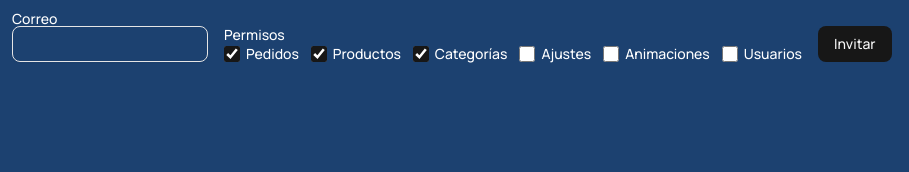
InviteAdminForm › shows the error message returned by inviteAdmin
Type "ya@crazyhour.co" into the field labelled "Correo".
click(110, 44); type("ya@crazyhour.co")  # box 12,26 -> 208,62
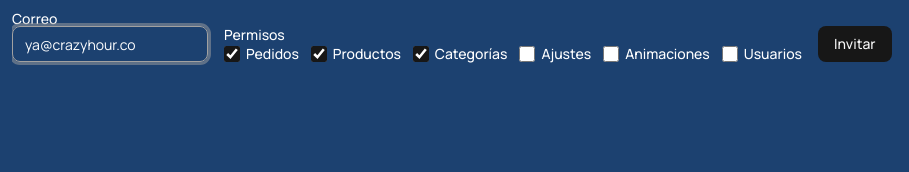
Click the button "Invitar".
click(855, 44)  # box 818,26 -> 892,62
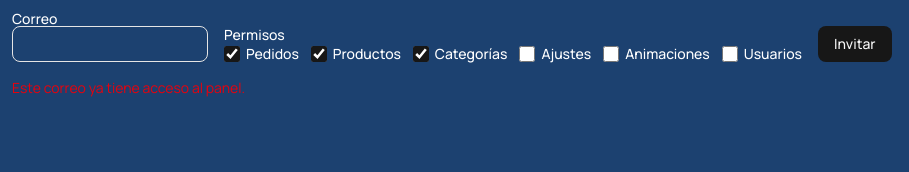
Check: the text "Este correo ya tiene acceso al panel." is shown, box 12,78 -> 245,97
